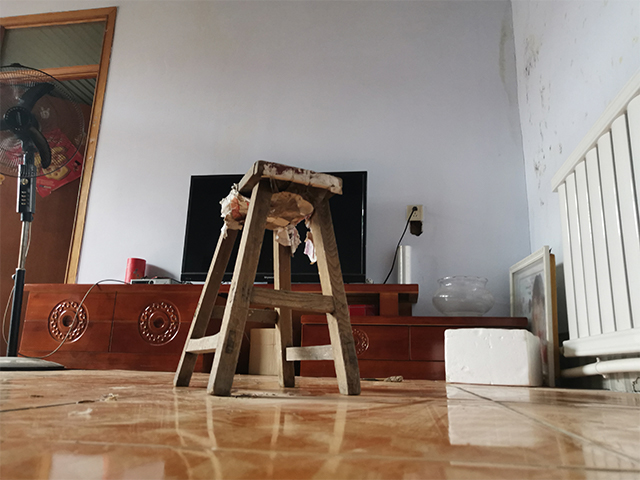cabinet: (13, 280, 532, 384)
feces: (382, 373, 406, 383)
stool: (172, 158, 364, 399)
